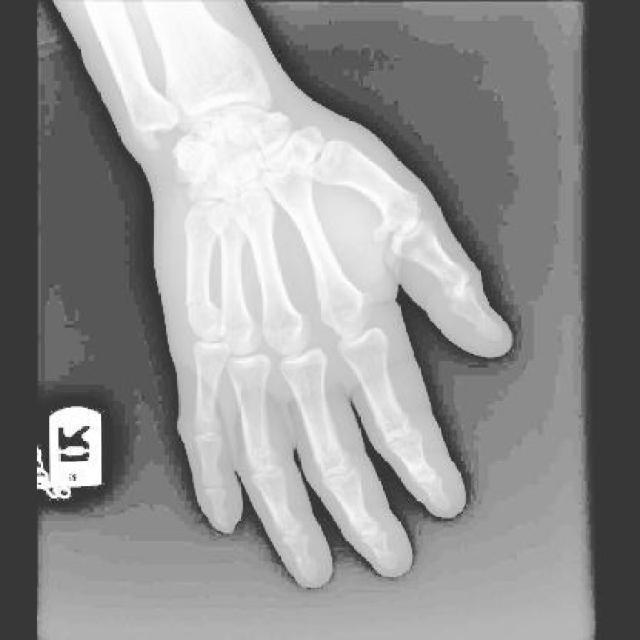Fracture: (182, 291, 216, 324)
